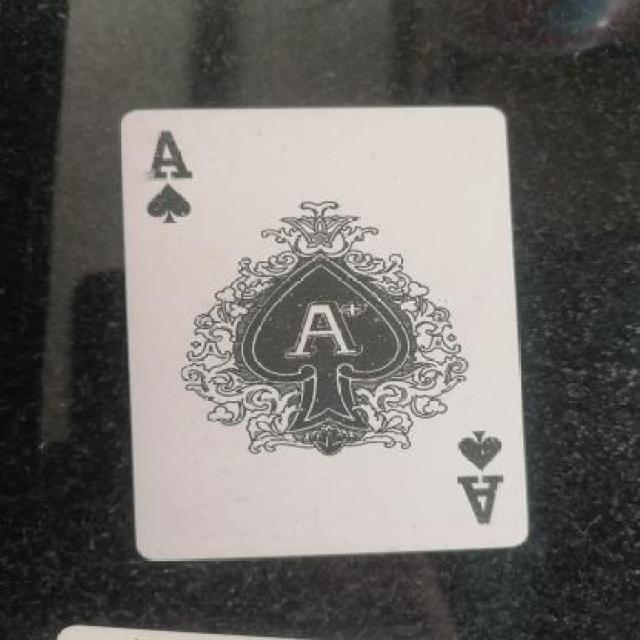AS: (132, 123, 208, 234), (442, 418, 510, 539)
